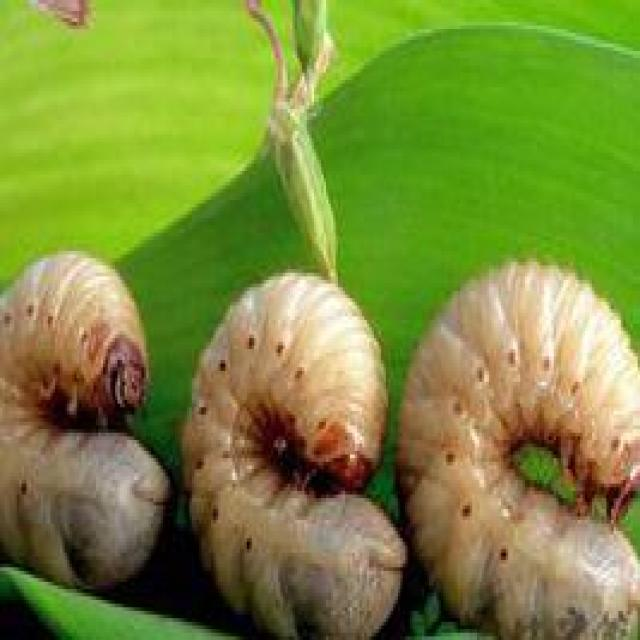Grub-Adult-: (396, 254, 638, 635), (175, 266, 409, 636), (0, 240, 178, 583)
